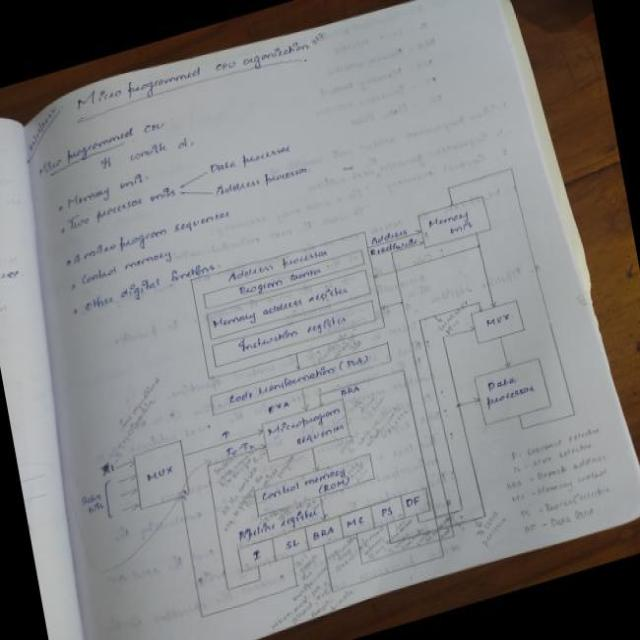Figure Detection - v3 Dataset Version2: (53, 151, 618, 640)
